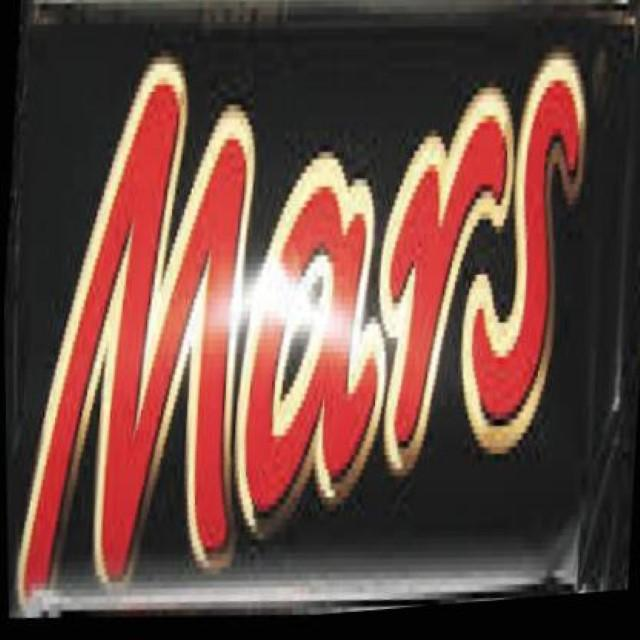mars_chocolate: (26, 35, 640, 610)
